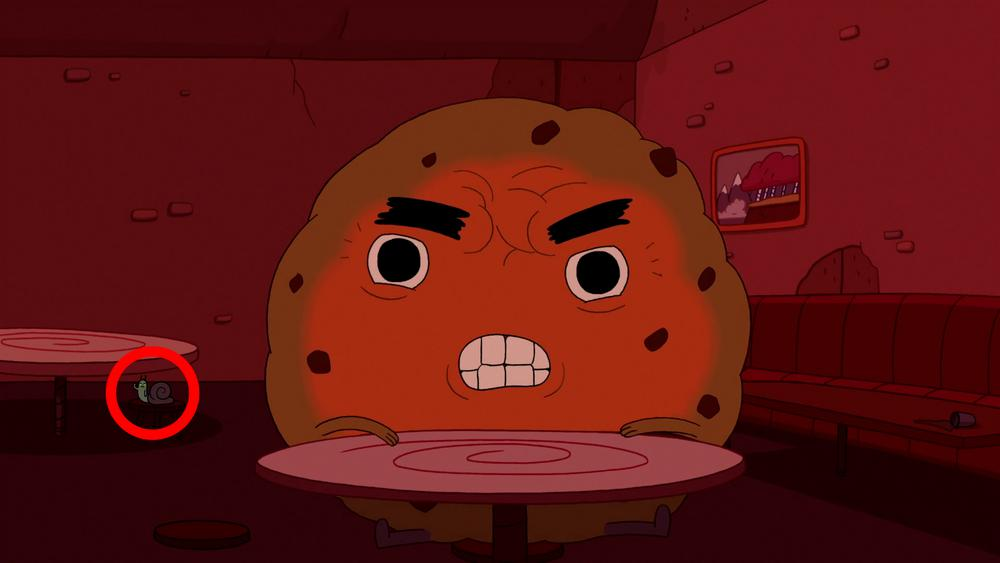snail: (22, 375, 68, 405)
